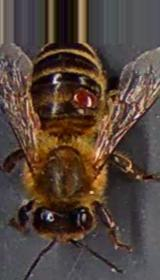varroa_mite: (68, 82, 104, 110)
